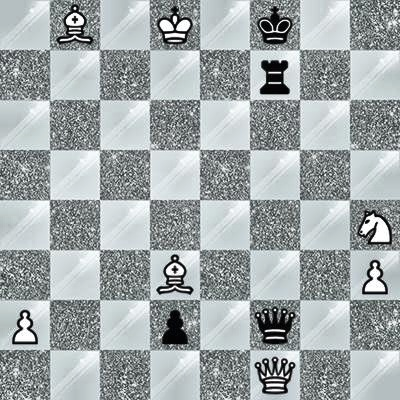black-king: (250, 0, 300, 50)
black-pawn: (150, 300, 200, 350)
black-queen: (250, 300, 300, 350)
black-rook: (250, 50, 300, 100)
white-bishop: (50, 0, 100, 50), (150, 250, 200, 300)
white-king: (150, 0, 200, 50)
white-knight: (350, 200, 400, 250)
white-pawn: (350, 250, 400, 300), (0, 300, 50, 350)
white-queen: (250, 350, 300, 400)
